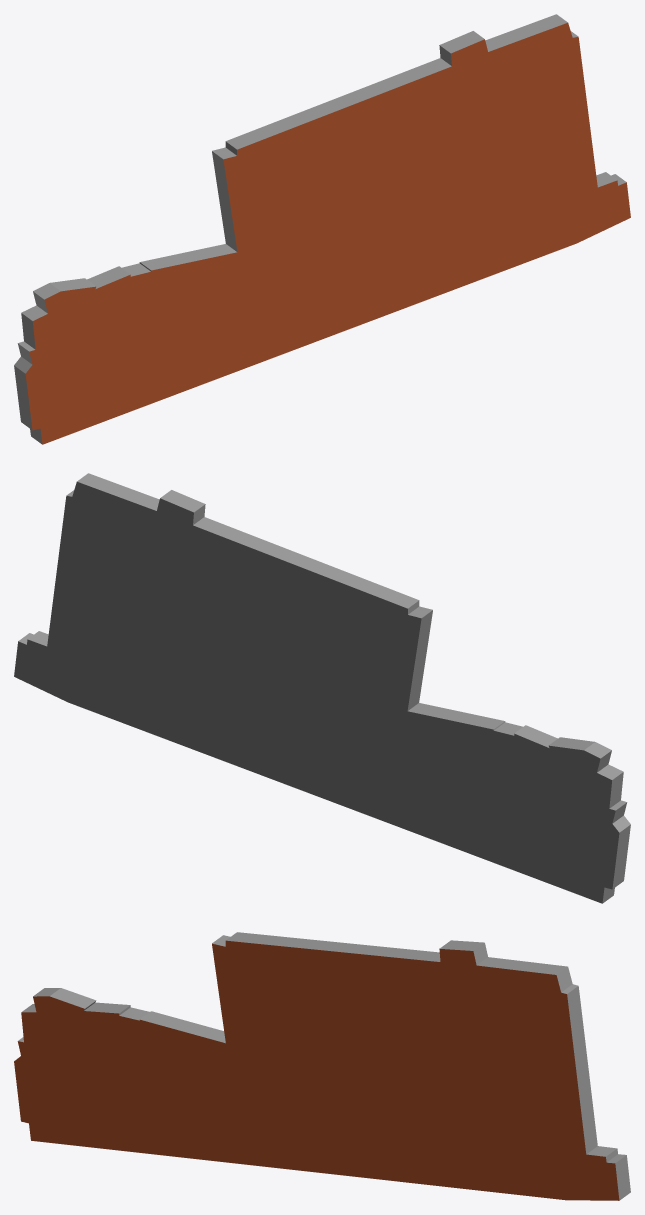
Rendered from construction_0152_assumed_A_Grande_construcao_h6m.obj.
The picture shows the model from 3 angles, top to bottom: view 1: azimuth 30°, elevation 25°; view 2: azimuth 150°, elevation 25°; view 3: azimuth 330°, elevation 25°; orthographic projection.
Visible parts, largest first — view 1: construction_0152_assumed_A_Grande_construcao; view 2: construction_0152_assumed_A_Grande_construcao; view 3: construction_0152_assumed_A_Grande_construcao.
Boxes of the visible parts, x1,y1,x2,y2 form: construction_0152_assumed_A_Grande_construcao: (14, 14, 630, 444); construction_0152_assumed_A_Grande_construcao: (14, 473, 630, 903); construction_0152_assumed_A_Grande_construcao: (14, 932, 630, 1200).
Bounding box in the file's own units: 182 × 85.31 × 6.
